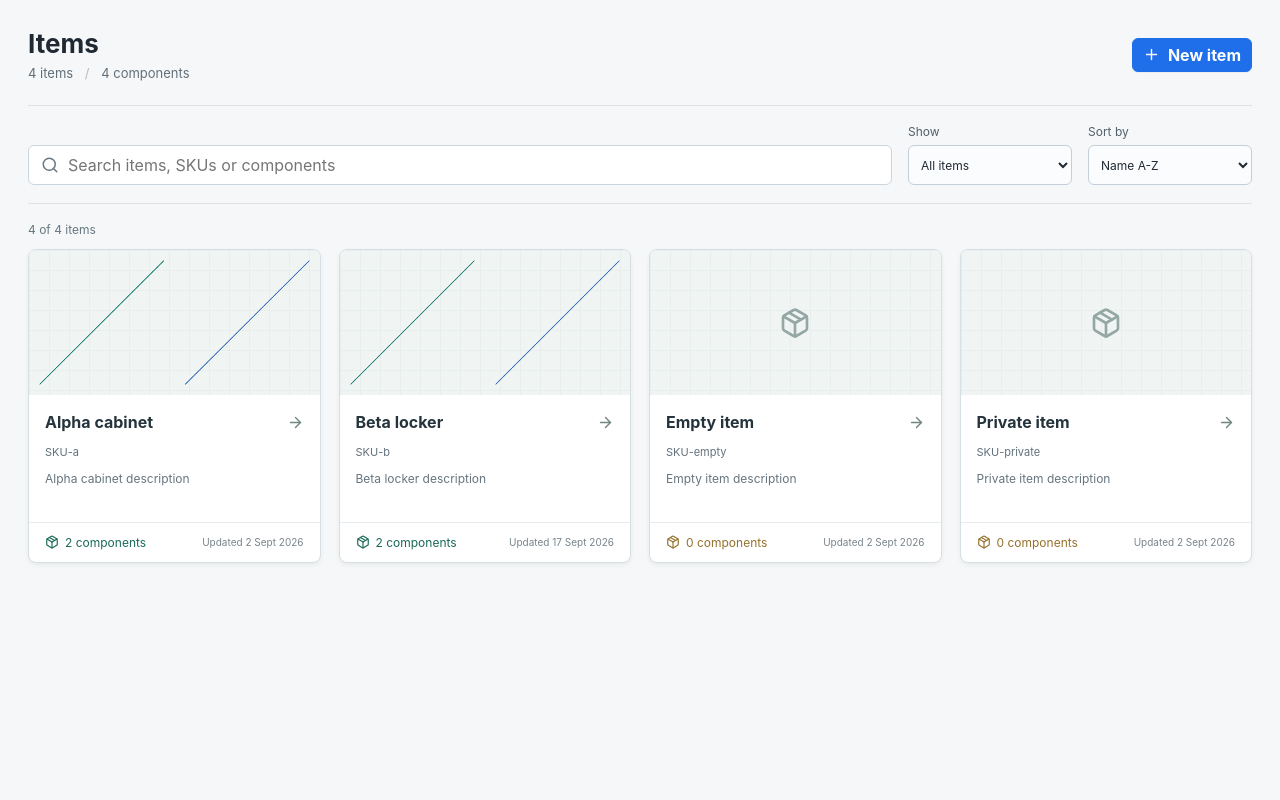
Test: item library grid › sorts and filters without mutating the underlying library
The width and height of the screenshot is (1280, 800).
Select "Most components" in the dropdown named "Sort items" at (1170, 165), box [1088, 145, 1252, 185]
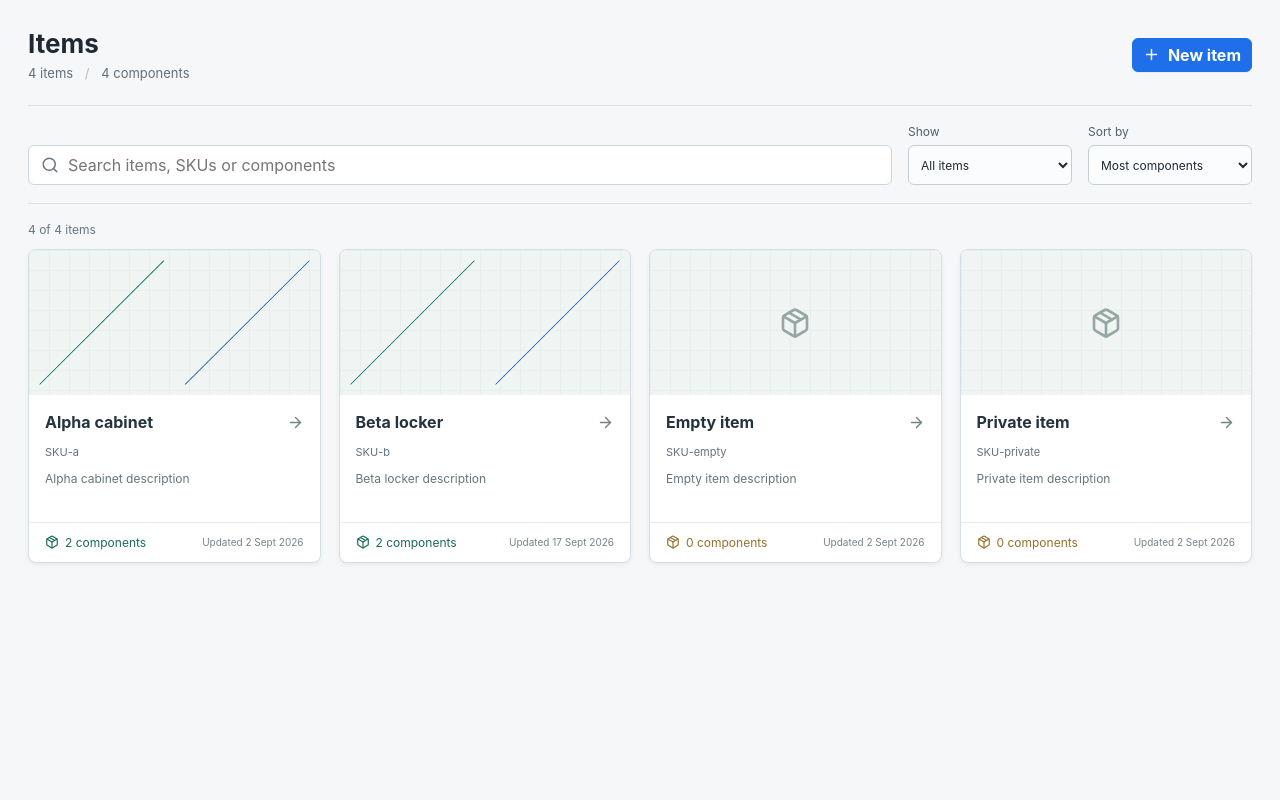
Select "Recently updated" in the dropdown named "Sort items" at (1170, 165), box [1088, 145, 1252, 185]
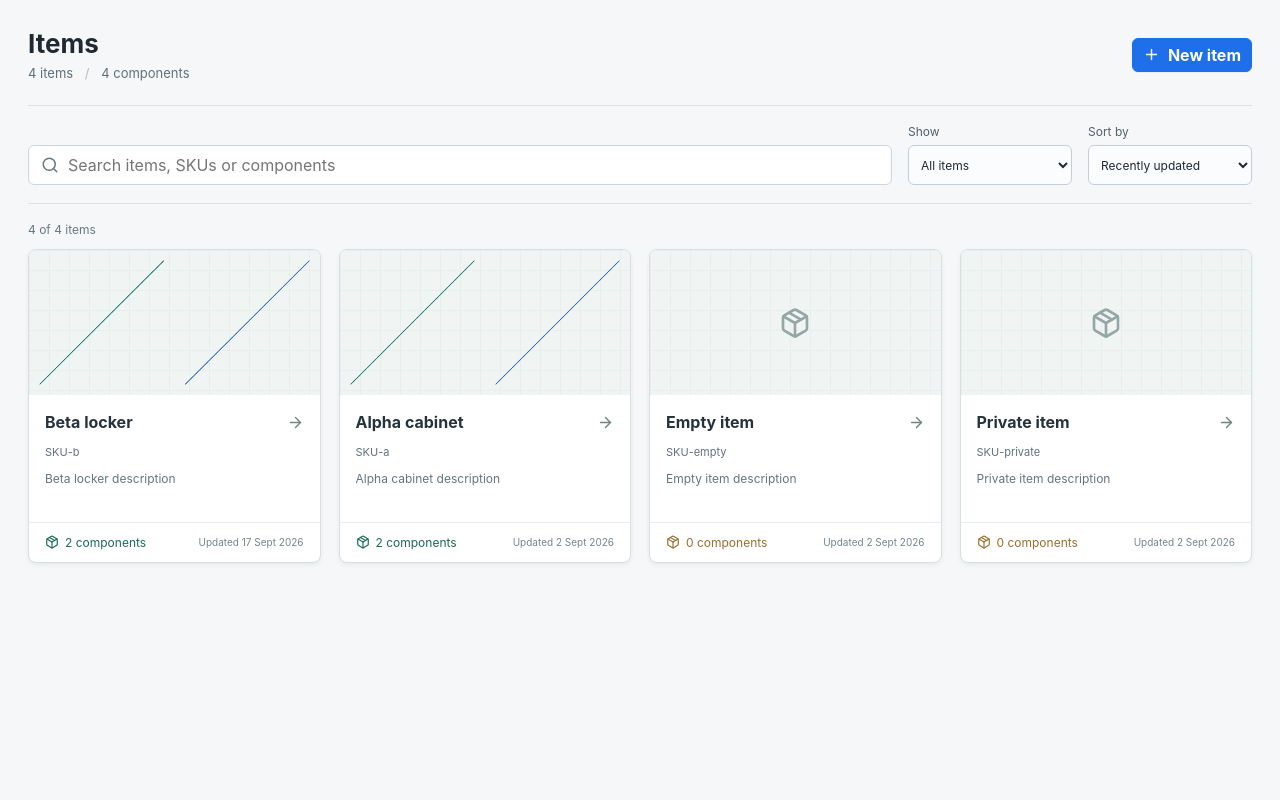
Select "Empty items" in the dropdown named "Filter items" at (990, 165), box [908, 145, 1072, 185]
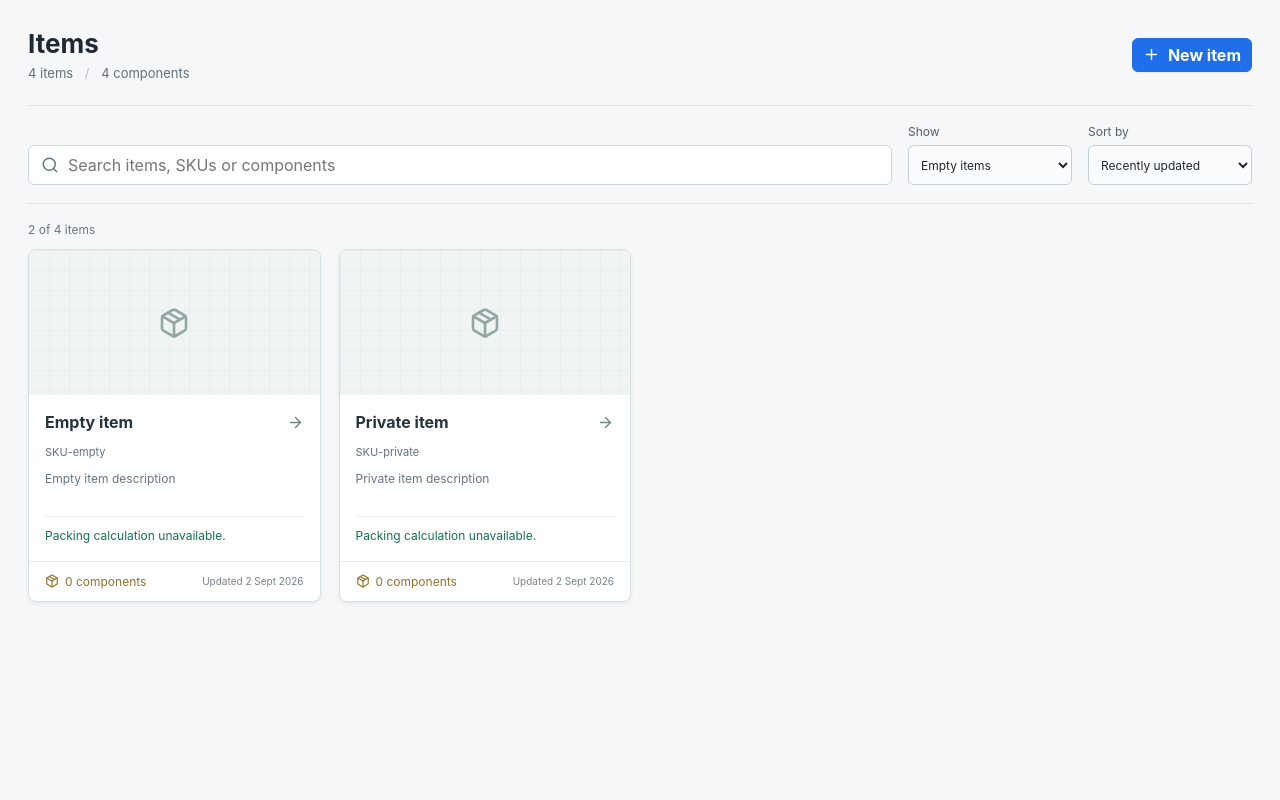
Check: the button with aria-label "Open Empty item" is shown, box [28, 249, 320, 602]
Check: the number of buttons named "Open " is 2, box [28, 249, 320, 602]; [338, 249, 631, 602]
